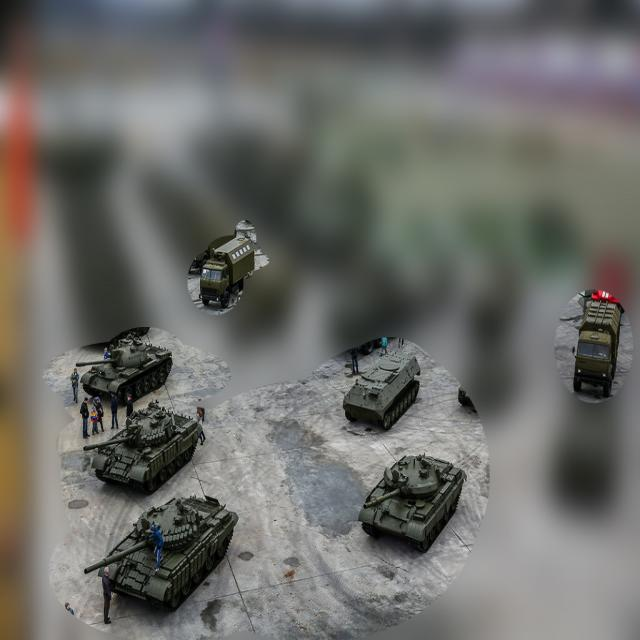tank: (357, 452, 467, 554), (342, 355, 424, 434)
